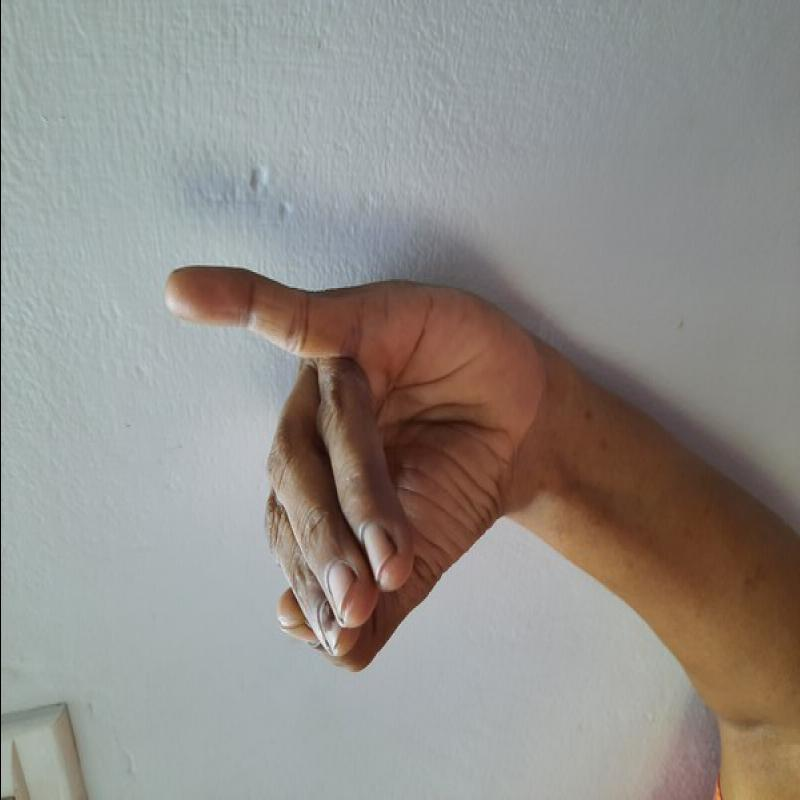Kartharee Mukham: (150, 242, 546, 679)
